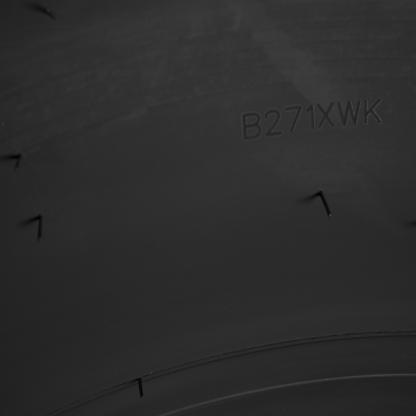ocr: (240, 94, 386, 142)
